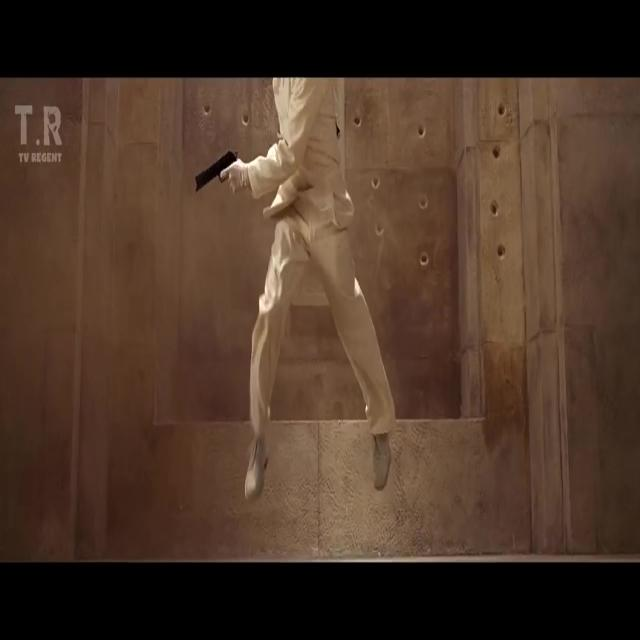Weapon: (183, 142, 248, 209)
